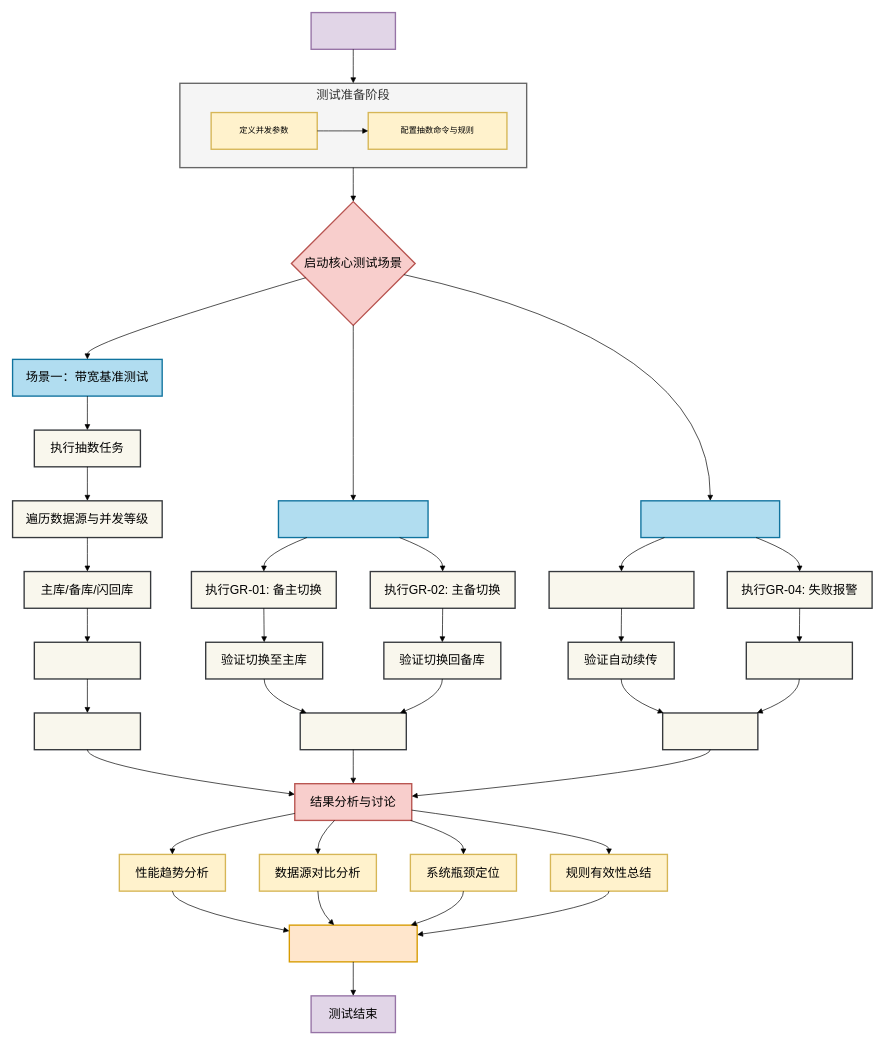
The diagram is 884 pixels wide and 1044 high, and some of its shapes have lost their labels. The shapes that lost their labels are listed below. From the top down, each one's box as (x1, y1, x2, y2) in pixels, then its label:
(310, 12, 396, 50): 开始测试
(277, 500, 428, 538): 场景二：高可用性测试
(640, 500, 780, 538): 场景三：可靠性测试
(548, 571, 694, 609): 执行GR-03: 任务重试
(33, 641, 141, 679): 监控记录指标
(745, 641, 853, 679): 验证报警机制
(33, 712, 141, 750): 性能基准评估
(299, 712, 407, 750): 高可用性验证
(662, 712, 758, 750): 可靠性验证
(288, 924, 418, 962): 形成最终测试结论
